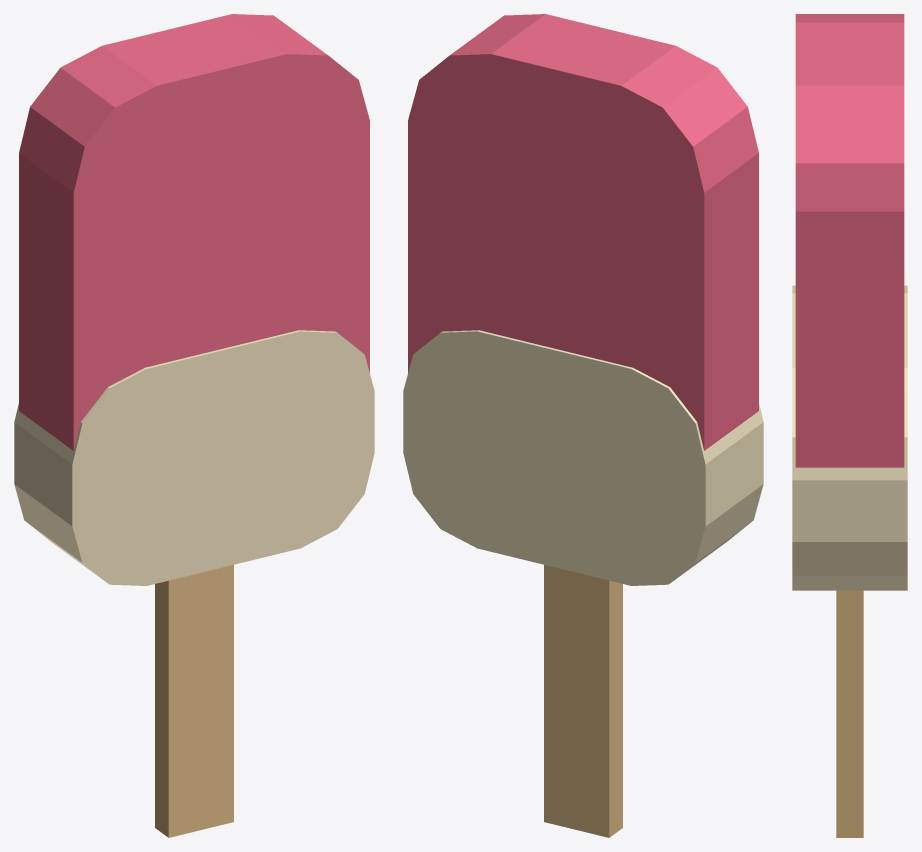
File: Food_Popsicle.obj
3 renders of one model, left to right at view 1: azimuth 30°, elevation 25°; view 2: azimuth 150°, elevation 25°; view 3: azimuth 270°, elevation 25°, orthographic.
Size of the model in its own units: 1.02 by 2.5 by 0.34.
